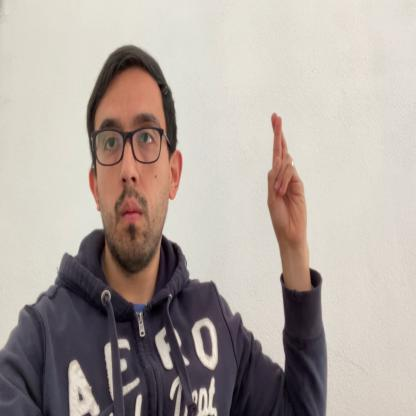R: (266, 111, 308, 247)
